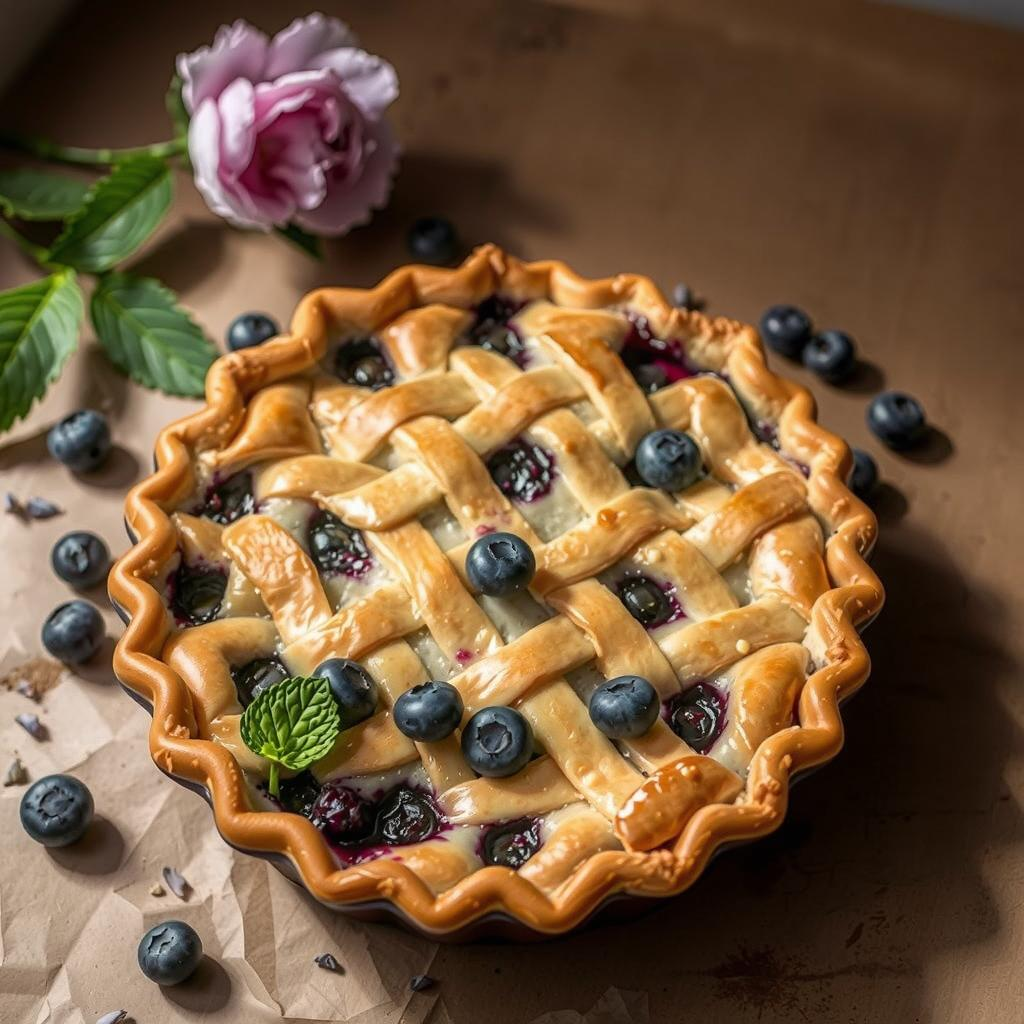pie: (90, 240, 901, 944)
